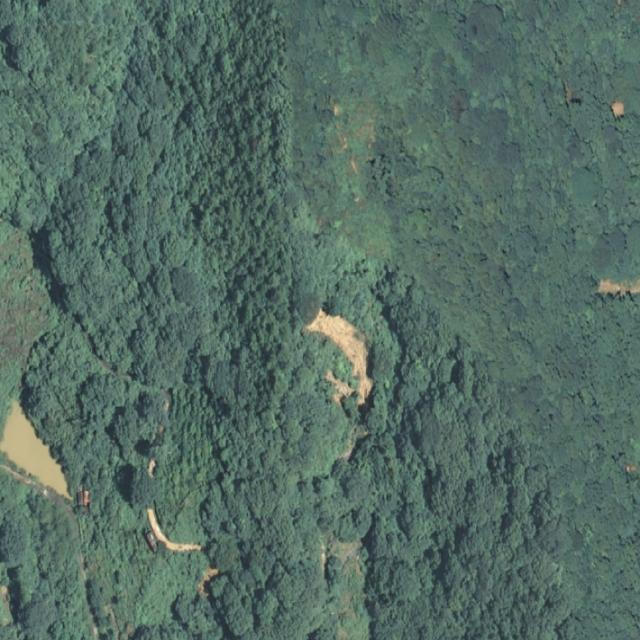landslide: (306, 309, 373, 405)
